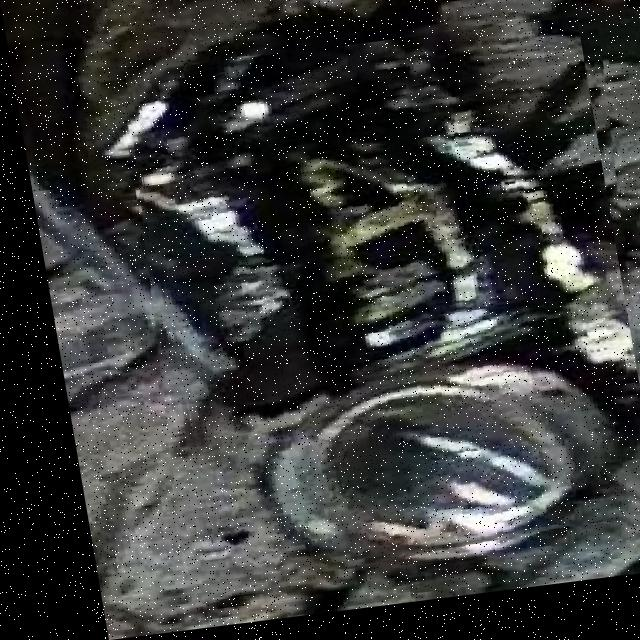litter: (126, 51, 624, 556)
